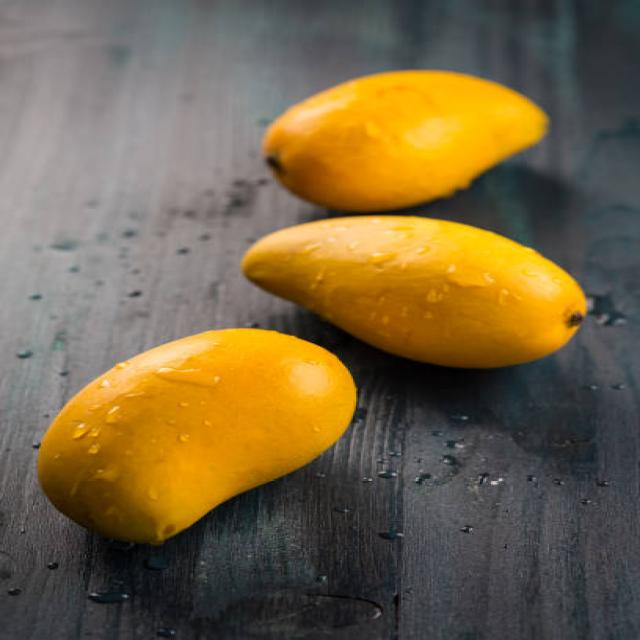mango: (39, 330, 356, 544), (242, 216, 587, 368), (262, 70, 548, 211)
